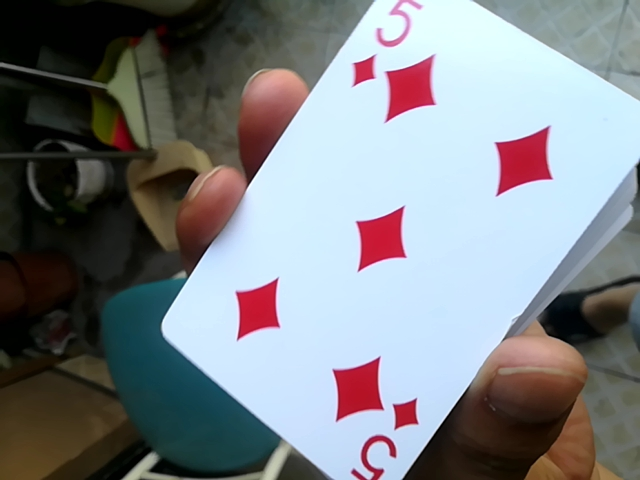fk 5: (161, 3, 630, 476)
